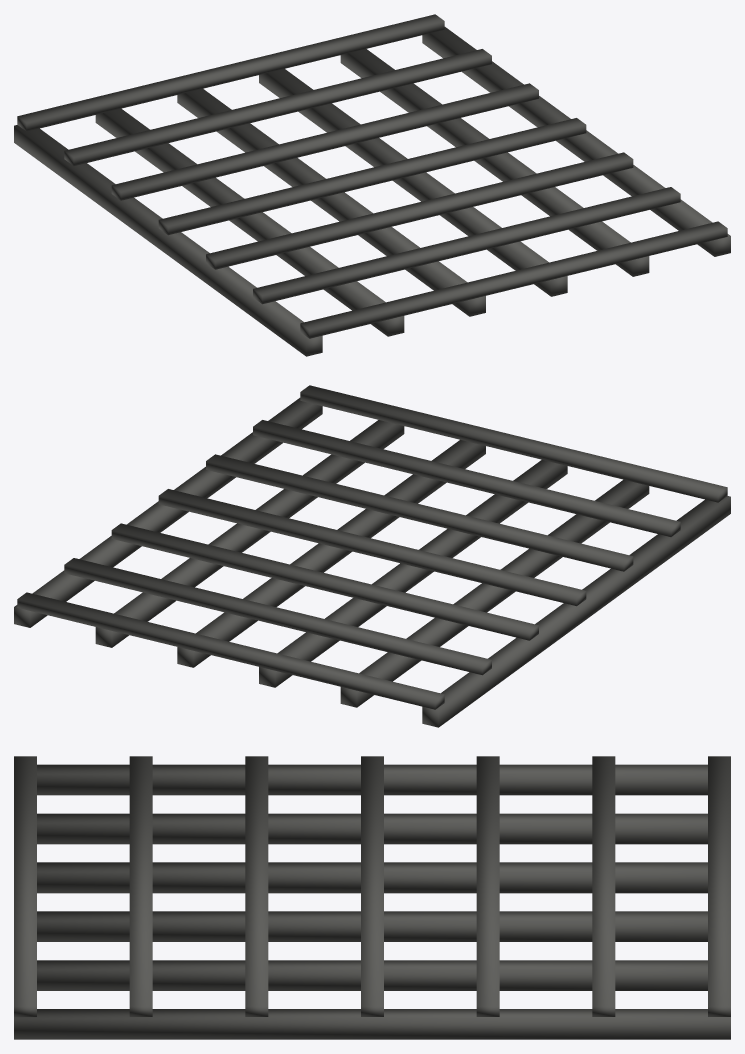
File: rpgpp_ag_metal_grill_01.fbx
3 renders of one model, top to bottom at view 1: azimuth 30°, elevation 25°; view 2: azimuth 150°, elevation 25°; view 3: azimuth 270°, elevation 25°, orthographic. The views are drawn at different scales.
Parts seen in each view (by area): view 1: rpgpp_ag_metal_grill_01; view 2: rpgpp_ag_metal_grill_01; view 3: rpgpp_ag_metal_grill_01.
Part boxes in pixels (bbox=[...]): rpgpp_ag_metal_grill_01: bbox=[14, 14, 730, 356]; rpgpp_ag_metal_grill_01: bbox=[14, 385, 730, 727]; rpgpp_ag_metal_grill_01: bbox=[14, 756, 730, 1039].
Bounding box in the file's own units: 0.6578 × 0.038 × 0.7843.
